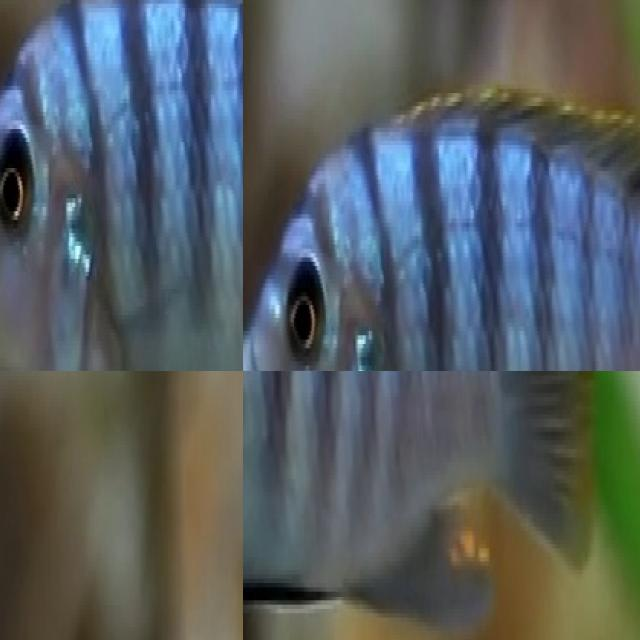fish: (243, 0, 640, 371), (243, 371, 606, 640), (0, 0, 243, 371)
